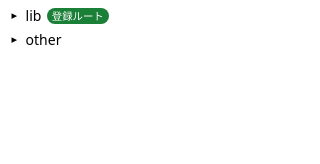
FolderTree stale検出 (r1 B4: rootId込み完全比較) › 無関係なroots変化 (他ルート追加) ではメニューを閉じない
Right-click the button with class "tree-label" showing "lib 登録ルート" at {"x": 70, "y": 16}, box [26, 4, 114, 28]
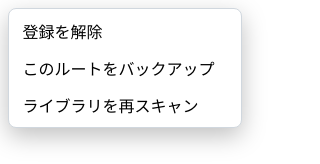
Result: the menu with class "context-menu" is shown at [8, 8, 242, 128]
Result: the number of menu items is 3 at [13, 13, 237, 50]; [13, 50, 237, 87]; [13, 87, 237, 123]
